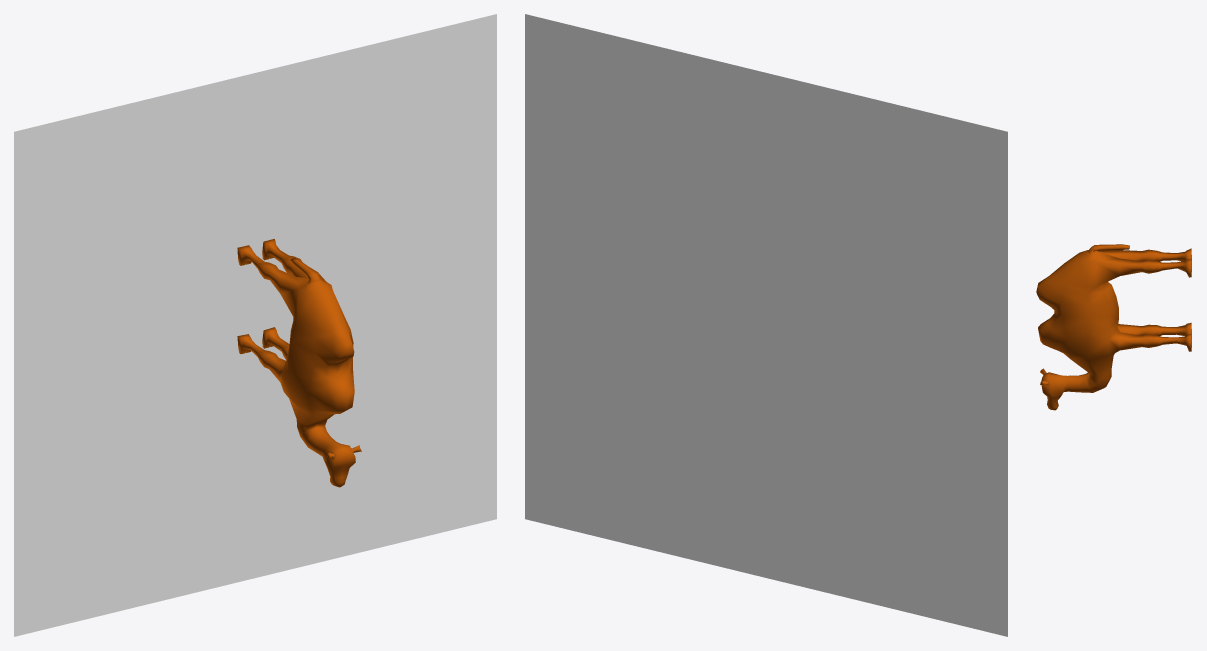
Rendered from camel.gltf.
The picture shows the model from 3 angles, left to right: view 1: azimuth 30°, elevation 25°; view 2: azimuth 150°, elevation 25°; view 3: azimuth 270°, elevation 25°; orthographic projection. The views are drawn at different scales.
Bounding box in the file's own units: 120 × 120 × 40.05.
